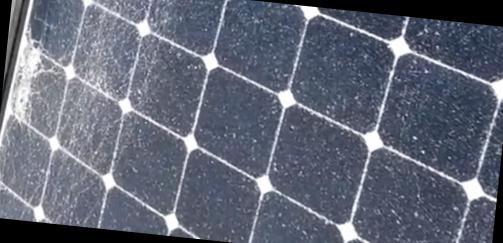Crack: (6, 0, 117, 163)
